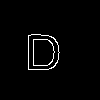D: (25, 25, 62, 70)
